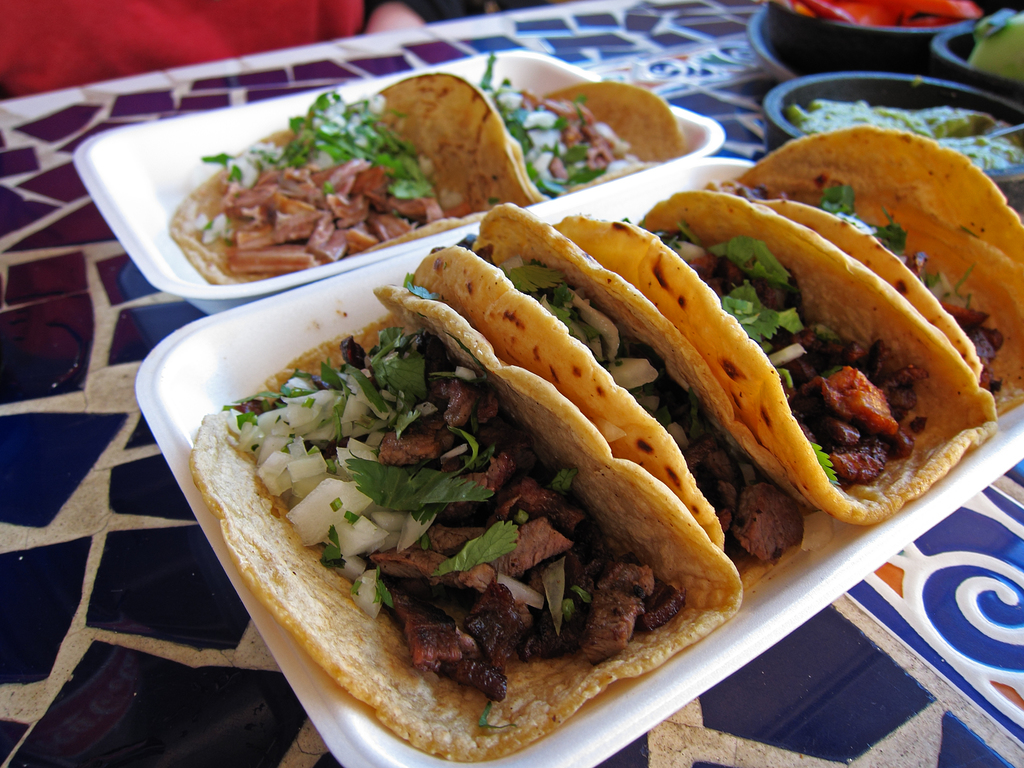taco: (187, 282, 742, 764), (546, 175, 998, 528), (413, 199, 799, 568), (690, 120, 1023, 417), (360, 60, 696, 232), (161, 109, 445, 280)
